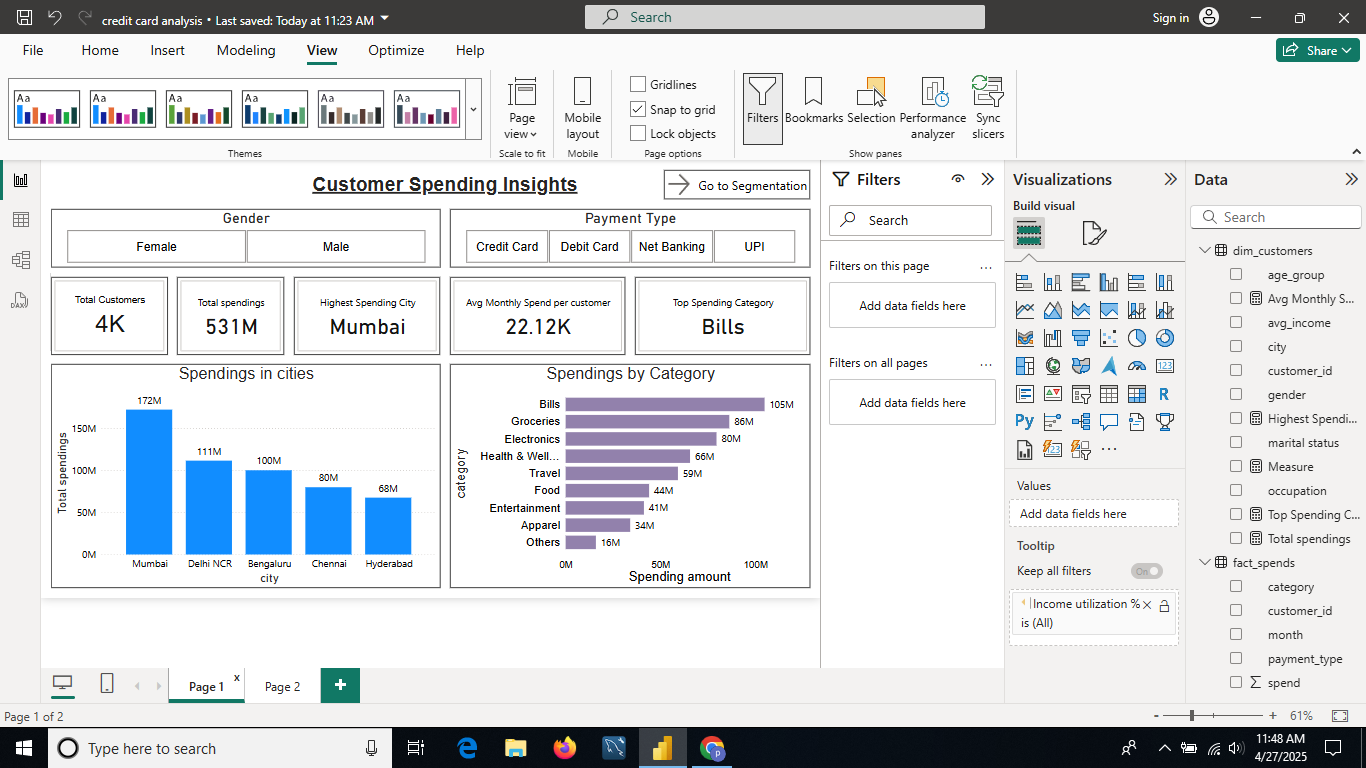

What the dashboard file says about the page in this screenshot:
{"tool":"powerbi","page":{"name":"Page 1","canvas":[1280,720],"ordinal":0},"visuals":[{"type":"clusteredBarChart","title":"Spendings by Category","fields":{"Category":["fact_spends.category"],"Y":["dim_customers.Total spendings"]},"box":[672,336,592,368],"z":0},{"type":"cardVisual","title":"Total Customers","fields":{"Data":["CountNonNull(dim_customers.customer_id)"]},"box":[16,192,192,128],"z":1000},{"type":"slicer","title":"Payment Type","fields":{"Values":["fact_spends.payment_type"]},"box":[672,80,592,96],"z":2000},{"type":"slicer","title":"Gender","fields":{"Values":["dim_customers.gender"]},"box":[16,80,640,96],"z":3000},{"type":"columnChart","title":"Spendings in cities","fields":{"Category":["dim_customers.city"],"Y":["dim_customers.Total spendings"]},"box":[16,336,640,368],"z":4000},{"type":"textbox","box":[416,16,592,48],"z":5000},{"type":"cardVisual","fields":{"Data":["dim_customers.Top Spending Category"]},"box":[1344,168,216,168],"z":6000},{"type":"cardVisual","fields":{"Data":["dim_customers.Highest Spending City"]},"box":[416,192,240,128],"z":7000},{"type":"cardVisual","fields":{"Data":["dim_customers.Avg Monthly Spend per customer"]},"box":[672,192,288,128],"z":8000},{"type":"cardVisual","fields":{"Data":["dim_customers.Total spendings"]},"box":[224,192,176,128],"z":9000},{"type":"cardVisual","fields":{"Data":["dim_customers.Top Spending Category"]},"box":[976,192,288,128],"z":10000},{"type":"actionButton","title":"Go to Segmentation","box":[1024,16,240,48],"z":10001}]}

Visuals, with their boxes on the page's 1280x720 design canvas (x1, y1, x2, y2). These are canvas units, not pixel positions in the 1366x768 screenshot, which may show the page scaled, cropped or inside an application window:
"Spendings by Category" clusteredBarChart: [x1=672, y1=336, x2=1264, y2=704]
"Total Customers" cardVisual: [x1=16, y1=192, x2=208, y2=320]
"Payment Type" slicer: [x1=672, y1=80, x2=1264, y2=176]
"Gender" slicer: [x1=16, y1=80, x2=656, y2=176]
"Spendings in cities" columnChart: [x1=16, y1=336, x2=656, y2=704]
textbox: [x1=416, y1=16, x2=1008, y2=64]
cardVisual - dim_customers.Top Spending Category: [x1=1344, y1=168, x2=1560, y2=336]
cardVisual - dim_customers.Highest Spending City: [x1=416, y1=192, x2=656, y2=320]
cardVisual - dim_customers.Avg Monthly Spend per customer: [x1=672, y1=192, x2=960, y2=320]
cardVisual - dim_customers.Total spendings: [x1=224, y1=192, x2=400, y2=320]
cardVisual - dim_customers.Top Spending Category: [x1=976, y1=192, x2=1264, y2=320]
"Go to Segmentation" actionButton: [x1=1024, y1=16, x2=1264, y2=64]
